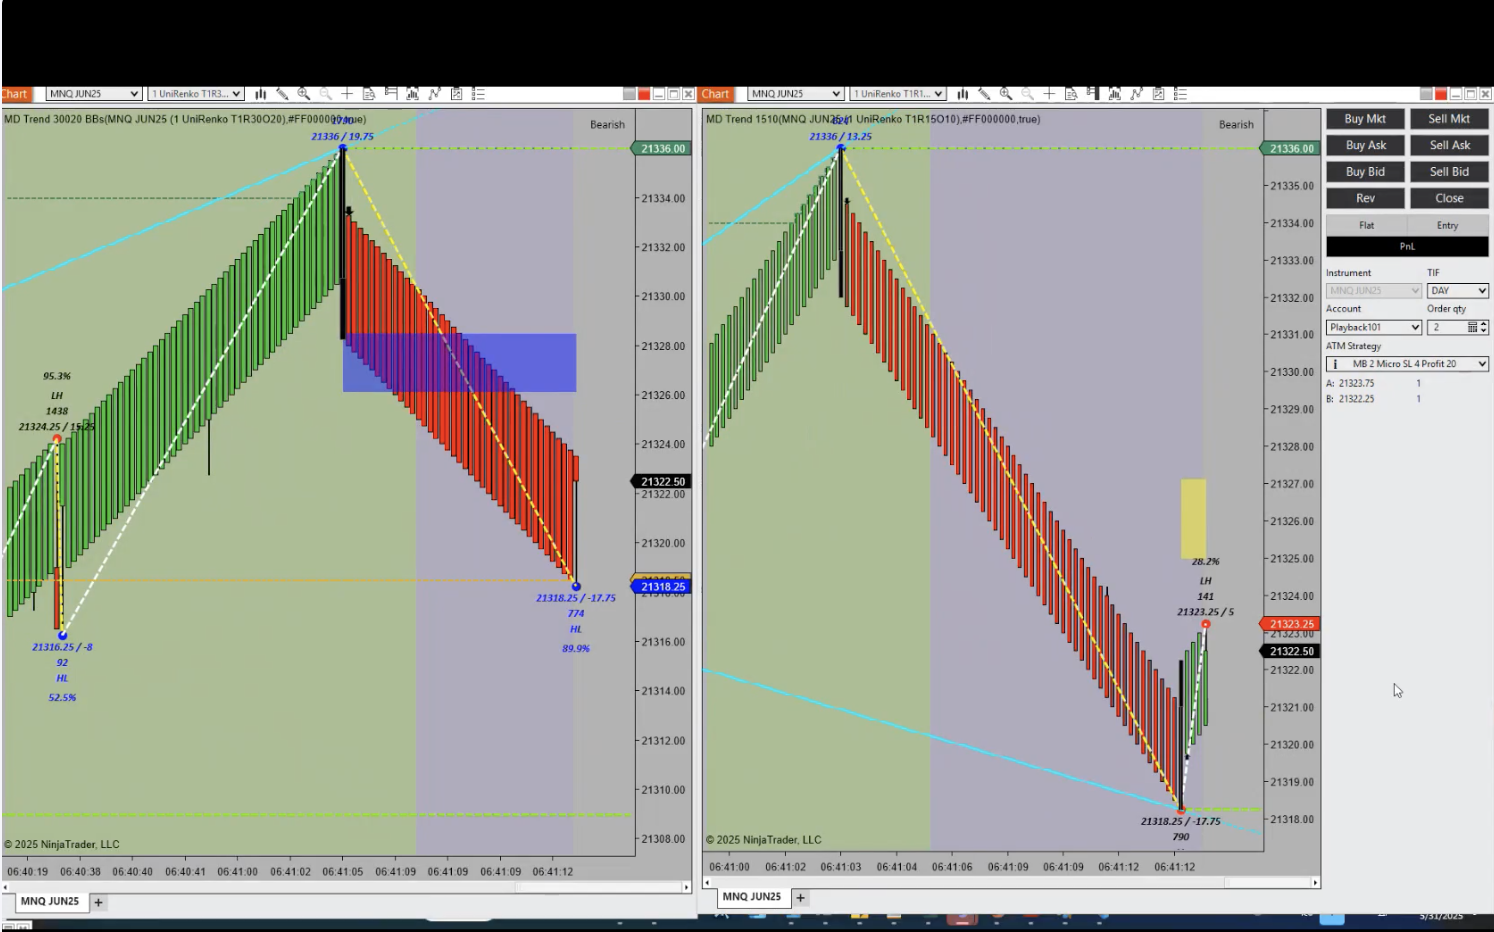candle: (337, 146, 345, 381), (835, 145, 843, 304), (1177, 659, 1184, 818)
